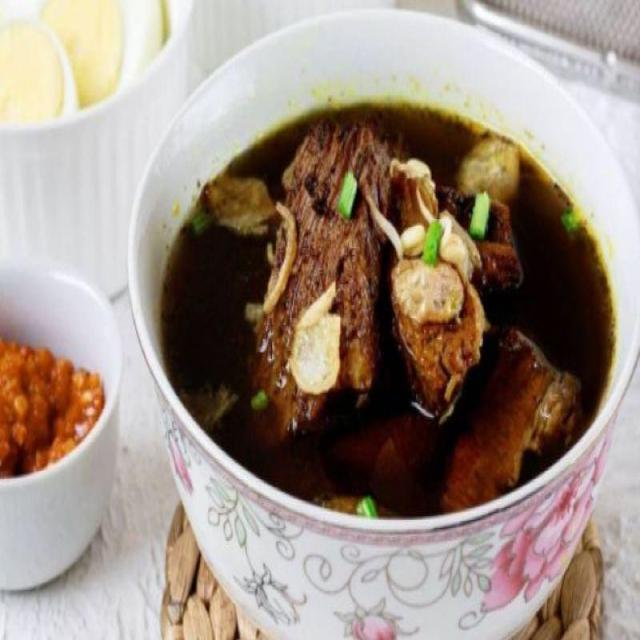Rawon: (159, 85, 599, 500)
